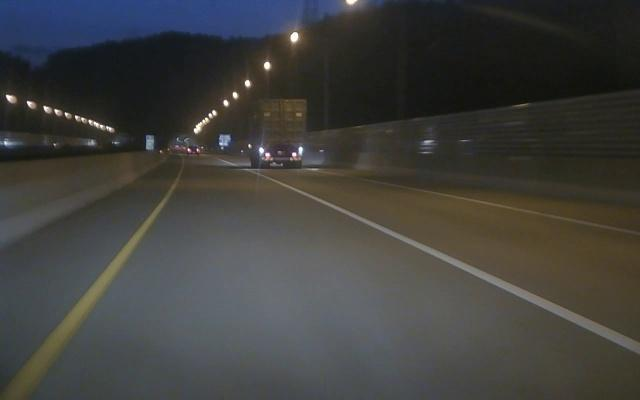lane: (280, 182, 639, 354), (4, 199, 166, 399), (411, 187, 640, 236)
